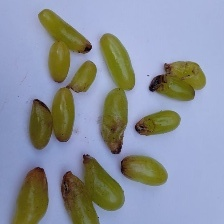grapes: (9, 40, 199, 208)
